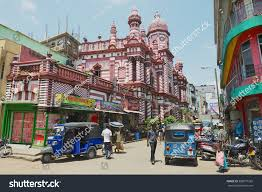tuk tuk: (39, 122, 103, 163), (163, 123, 199, 167)
